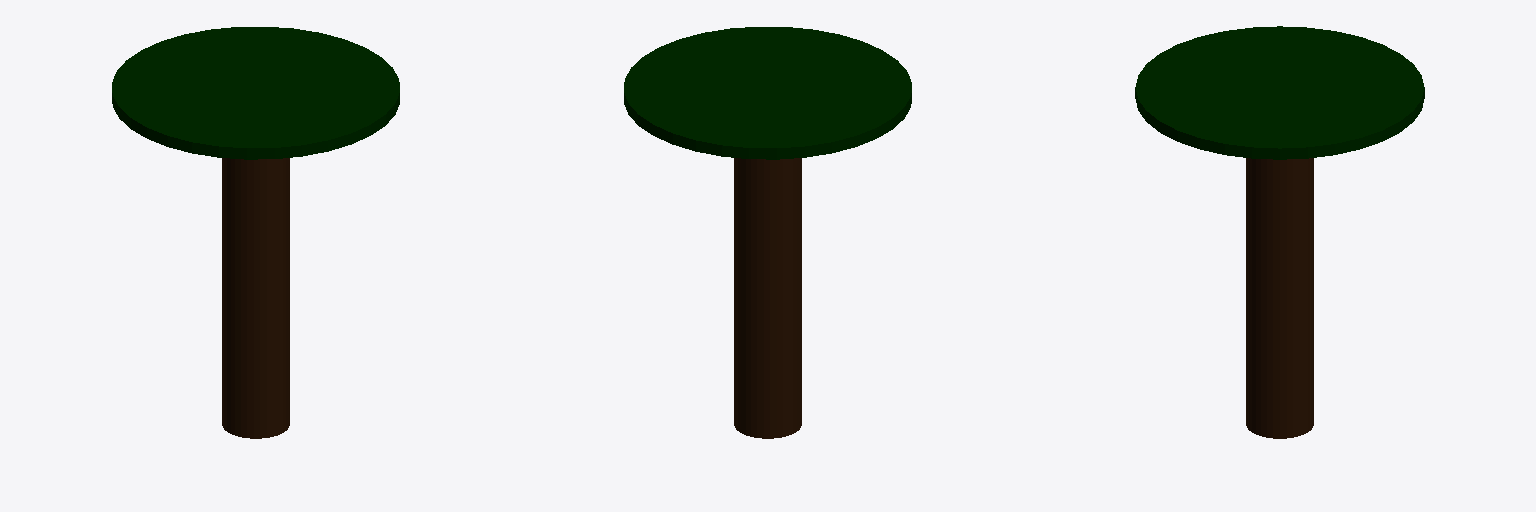
The model's file is tree.obj.
The picture shows the model from 3 angles: view 1: azimuth 30°, elevation 25°; view 2: azimuth 150°, elevation 25°; view 3: azimuth 270°, elevation 25°; orthographic projection.
Visible parts, largest first — view 1: Cylinder; view 2: Cylinder; view 3: Cylinder.
Boxes of the visible parts, x1,y1,x2,y2 form: Cylinder: [112, 27, 399, 438]; Cylinder: [624, 27, 911, 438]; Cylinder: [1135, 26, 1424, 438].
Size of the model in its own units: 4.27 by 5.5 by 4.27.